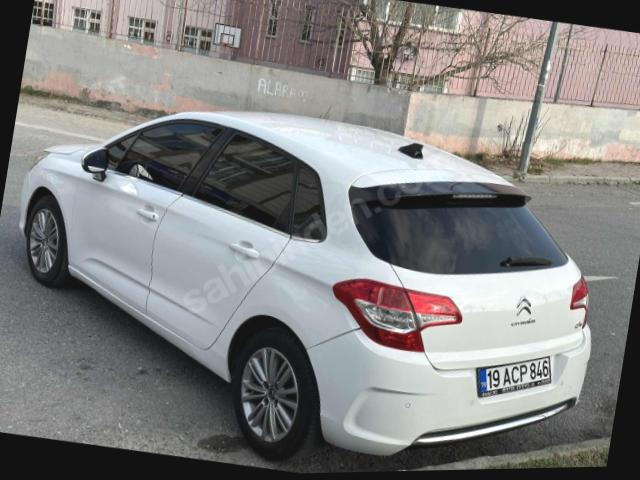plaka: (478, 356, 551, 398)
